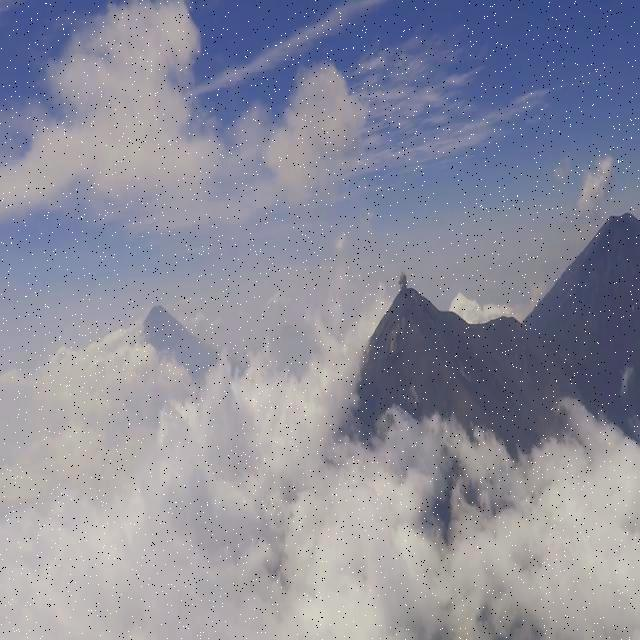Plume: (0, 0, 225, 219), (264, 49, 372, 199), (397, 268, 408, 290)
Summit: (376, 285, 463, 325)
